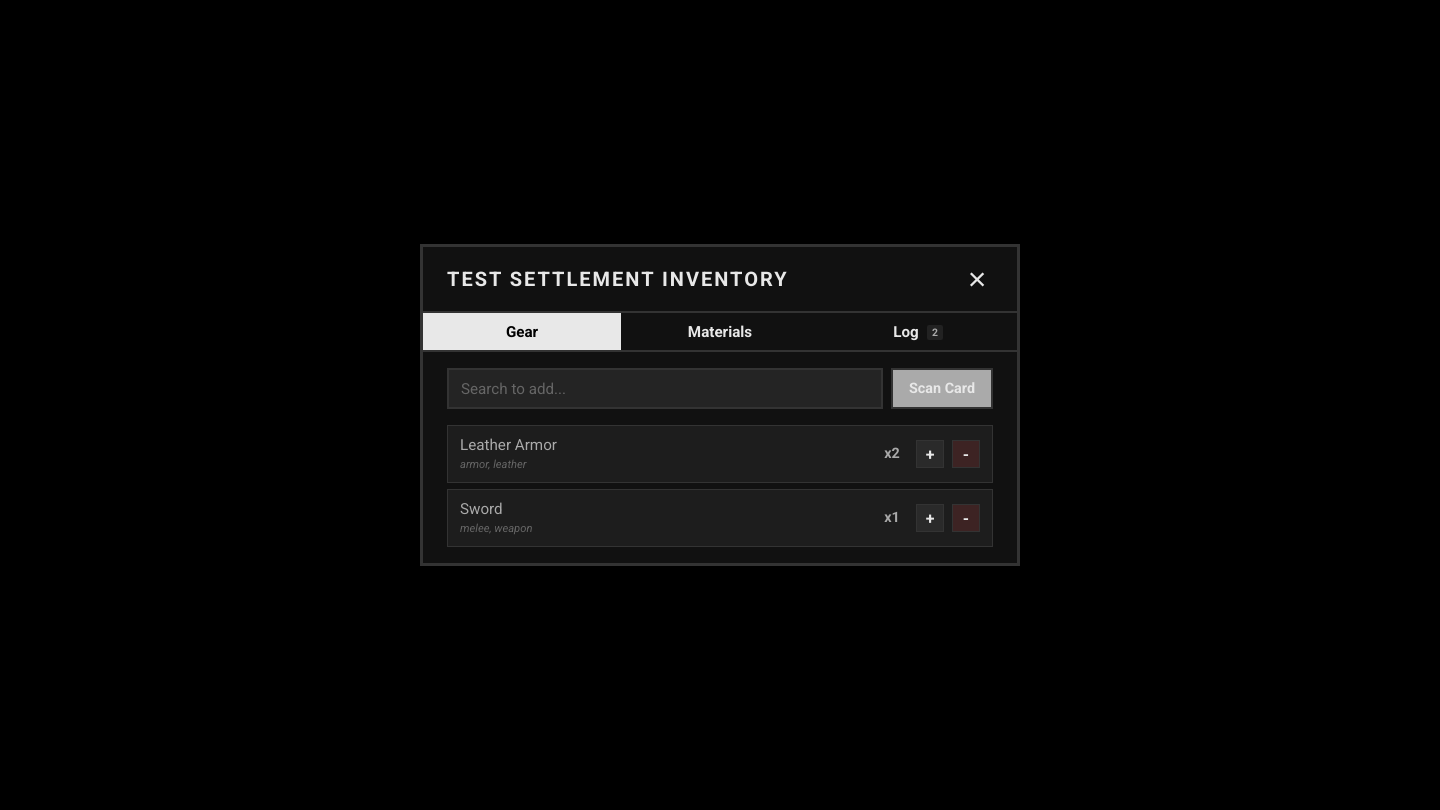
Scenario: InventoryModal › Scan Functionality › shows scan view when Scan Card button clicked
Click the button "Scan Card": click(942, 389) [891,368,993,409]
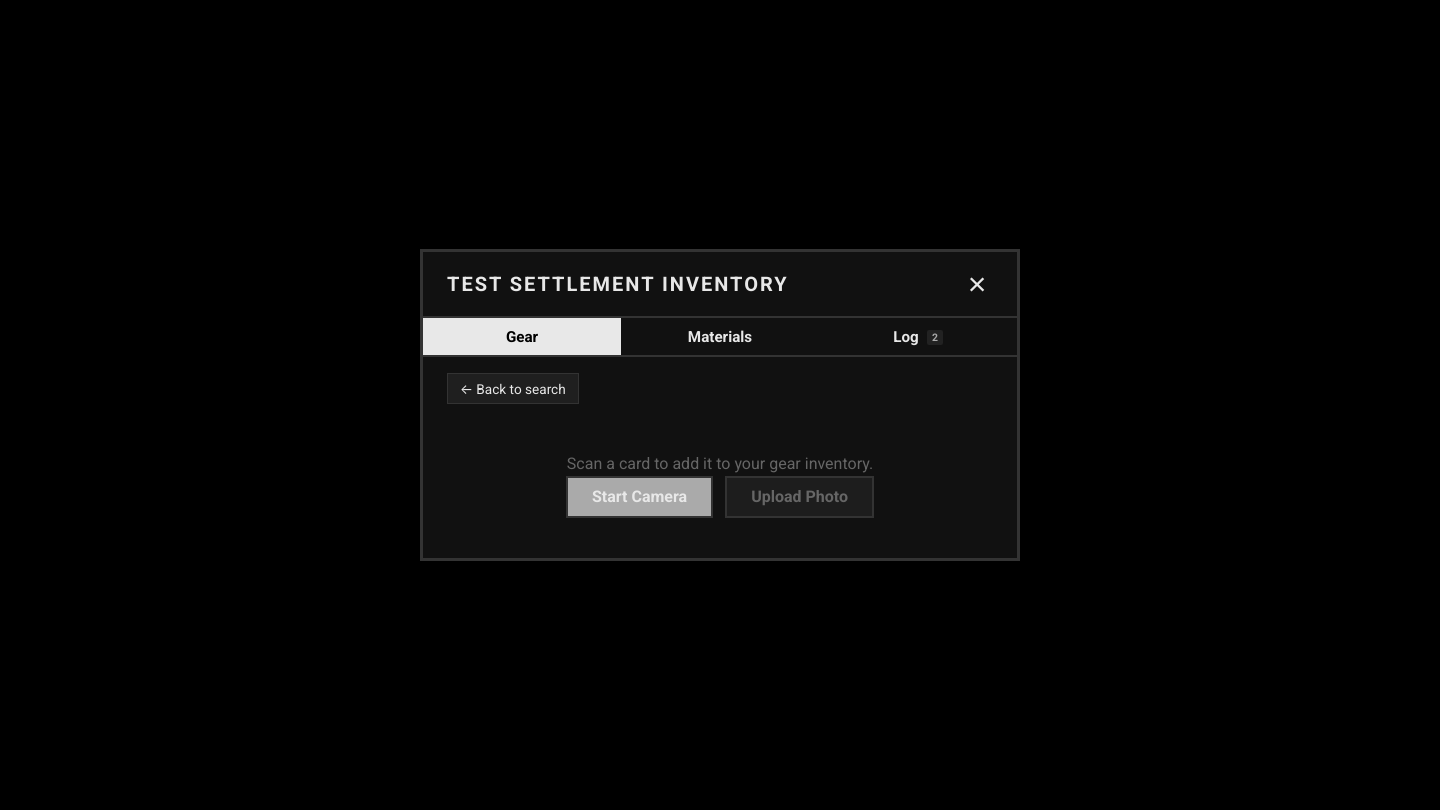
Now the text "Scan a card to add it to your gear inventory." is shown, box [567,454,873,473]
Now the button "Start Camera" is shown, box [566,476,713,518]
Now the button "Upload Photo" is shown, box [725,476,874,518]
